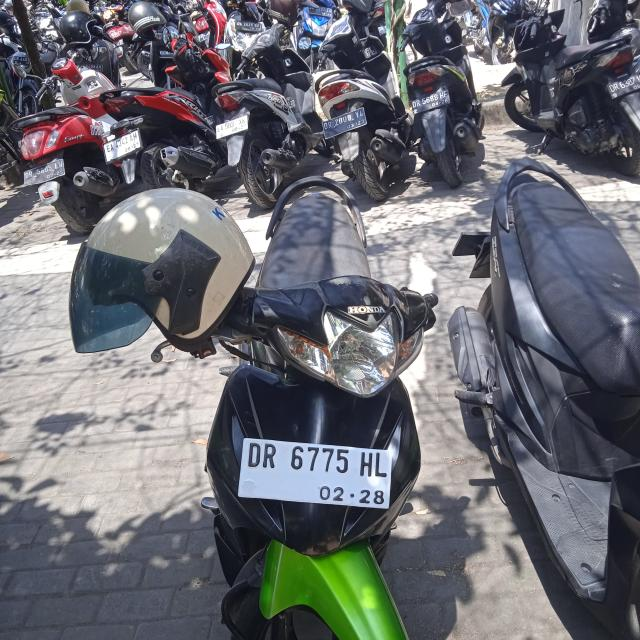plate: (236, 432, 394, 512), (322, 106, 368, 139), (411, 89, 451, 115), (607, 73, 640, 101)
